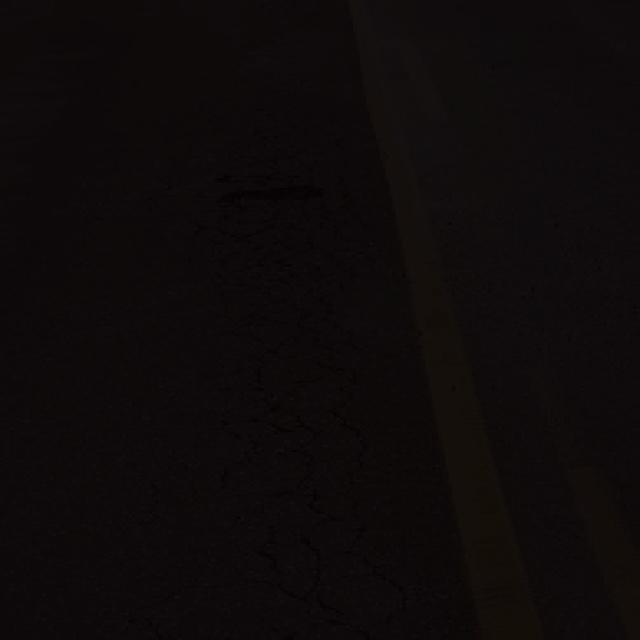Pothole: (220, 174, 338, 220)
